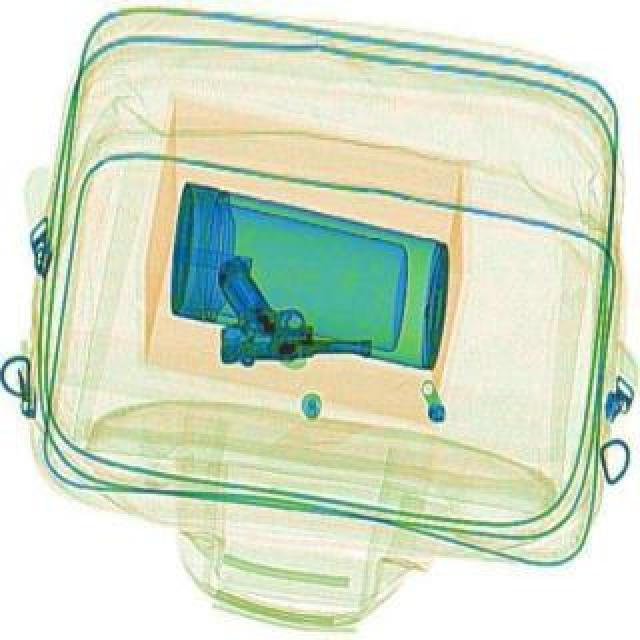gun: (214, 246, 376, 362)
